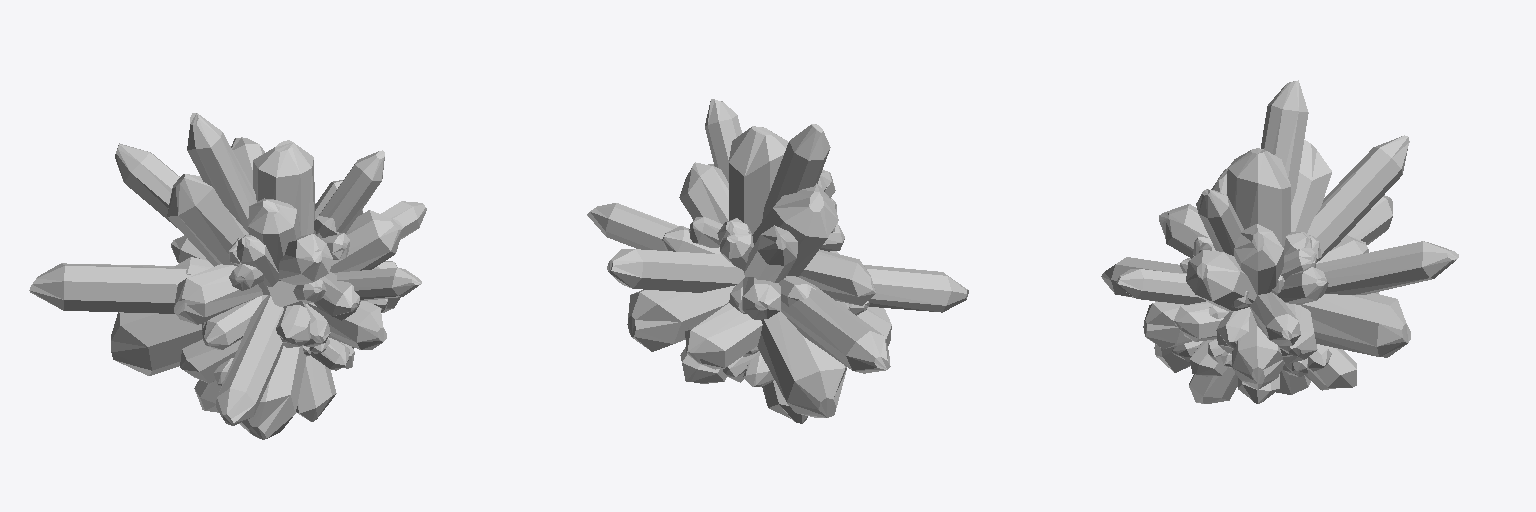
File: Aevium_global_sj.obj
3 views of the same model, side by side, from view 1: azimuth 30°, elevation 25°; view 2: azimuth 150°, elevation 25°; view 3: azimuth 270°, elevation 25° (orthographic).
Parts seen in each view (by area): view 1: pCylinder8 group4, group5 pCylinder8, group4 pCylinder1, pCylinder1 group8, group1 pCylinder8, group1 pCylinder1, group5 pCylinder1, group8 pCylinder7, group7 pCylinder1, group8 pCylinder8, group7 pCylinder8, group8 pCylinder2 (+18 smaller); view 2: group4 pCylinder1, pCylinder8 group4, group3 pCylinder8, group1 pCylinder1, group3 pCylinder1, pCylinder1 group8, group5 pCylinder8, group4 pCylinder7, group1 pCylinder8, group8 pCylinder7, group2 pCylinder8, group1 pCylinder2 (+11 smaller); view 3: group3 pCylinder1, group8 pCylinder8, group3 pCylinder8, group1 pCylinder1, group1 pCylinder8, group7 pCylinder1, group1 pCylinder2, pCylinder1 group2, pCylinder1 group8, group6 pCylinder8, group7 pCylinder8, group2 pCylinder8 (+15 smaller).
Boxes of the visible parts, x1=… form: pCylinder8 group4: x1=29, y1=263, x2=192, y2=313; group5 pCylinder8: x1=216, y1=295, x2=283, y2=425; group4 pCylinder1: x1=111, y1=312, x2=202, y2=375; pCylinder1 group8: x1=167, y1=174, x2=269, y2=294; group1 pCylinder8: x1=187, y1=113, x2=256, y2=232; group1 pCylinder1: x1=253, y1=140, x2=314, y2=235; group5 pCylinder1: x1=239, y1=295, x2=306, y2=439; group8 pCylinder7: x1=174, y1=264, x2=262, y2=324; group7 pCylinder1: x1=330, y1=210, x2=402, y2=272; group8 pCylinder8: x1=115, y1=143, x2=179, y2=227; group7 pCylinder8: x1=313, y1=150, x2=384, y2=238; group8 pCylinder2: x1=248, y1=198, x2=300, y2=280; group4 pCylinder1: x1=757, y1=311, x2=846, y2=417; pCylinder8 group4: x1=781, y1=276, x2=890, y2=373; group3 pCylinder8: x1=607, y1=249, x2=744, y2=292; group1 pCylinder1: x1=729, y1=126, x2=788, y2=234; group3 pCylinder1: x1=627, y1=285, x2=735, y2=351; pCylinder1 group8: x1=752, y1=183, x2=838, y2=276; group5 pCylinder8: x1=864, y1=265, x2=968, y2=312; group4 pCylinder7: x1=685, y1=302, x2=762, y2=369; group1 pCylinder8: x1=762, y1=124, x2=830, y2=221; group8 pCylinder7: x1=799, y1=249, x2=875, y2=305; group2 pCylinder8: x1=587, y1=203, x2=678, y2=250; group1 pCylinder2: x1=679, y1=162, x2=728, y2=223; group3 pCylinder1: x1=1301, y1=293, x2=1410, y2=357; group8 pCylinder8: x1=1307, y1=135, x2=1409, y2=262; group3 pCylinder8: x1=1316, y1=241, x2=1458, y2=294; group1 pCylinder1: x1=1227, y1=148, x2=1290, y2=247; group1 pCylinder8: x1=1261, y1=80, x2=1308, y2=204; group7 pCylinder1: x1=1186, y1=250, x2=1256, y2=311; group1 pCylinder2: x1=1234, y1=224, x2=1283, y2=294; pCylinder1 group2: x1=1232, y1=311, x2=1283, y2=389; pCylinder1 group8: x1=1291, y1=140, x2=1331, y2=233; group6 pCylinder8: x1=1116, y1=269, x2=1205, y2=304; group7 pCylinder8: x1=1196, y1=189, x2=1243, y2=255; group2 pCylinder8: x1=1250, y1=292, x2=1300, y2=345.
Bounding box in the file's own units: 12.11 × 9.93 × 10.74.